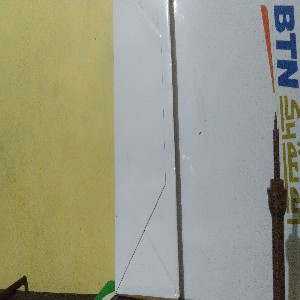solder: (266, 109, 288, 300)
